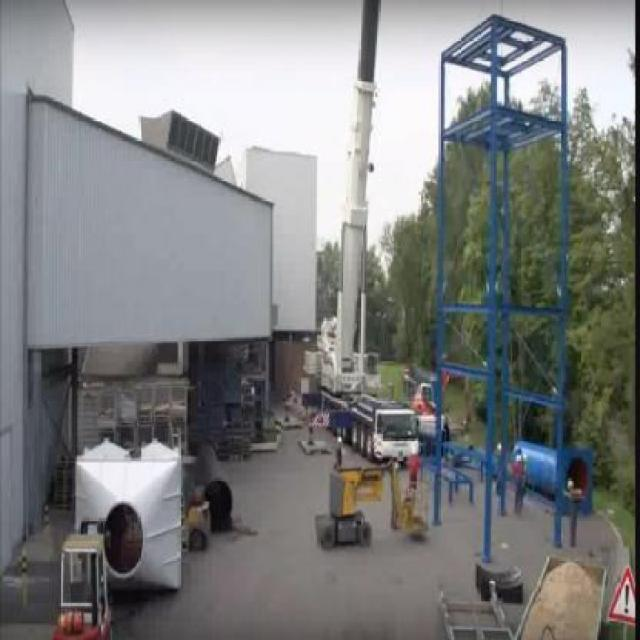Mobile Crane: (280, 1, 422, 465)
